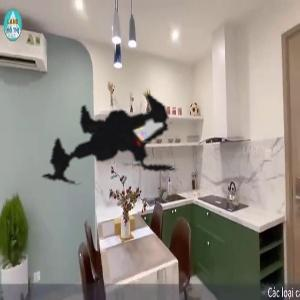drone: (9, 48, 219, 258)
